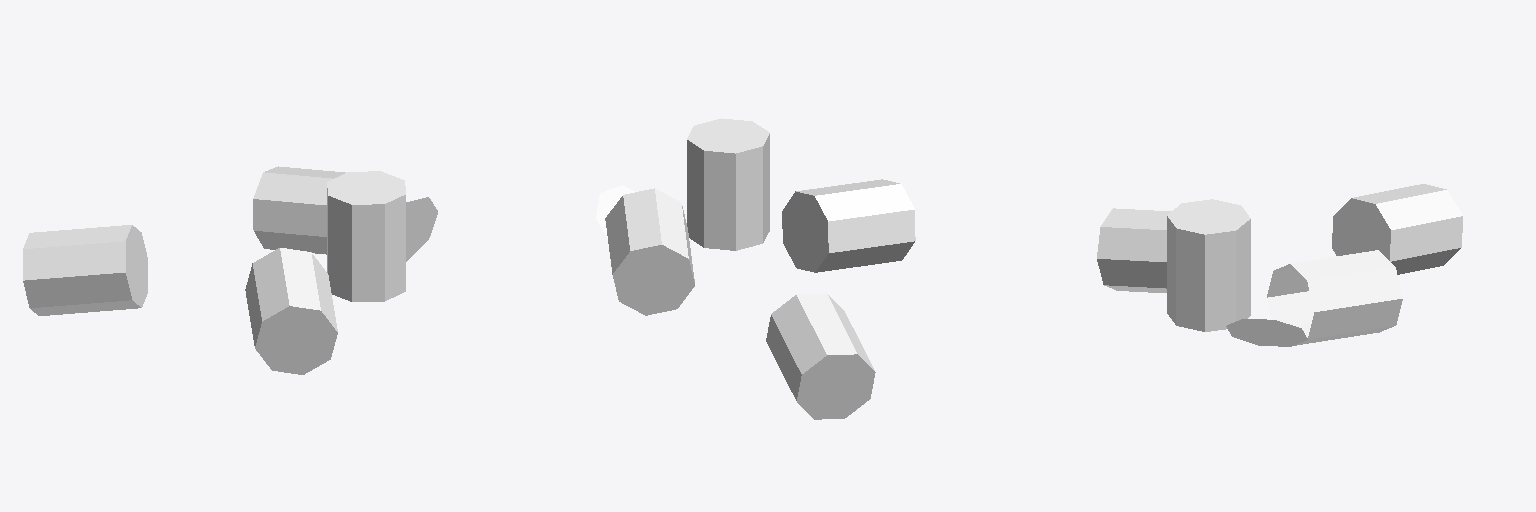
Rendered from metal_cans_debris_4.obj.
3 renders of one model, left to right at view 1: azimuth 30°, elevation 25°; view 2: azimuth 150°, elevation 25°; view 3: azimuth 270°, elevation 25°, orthographic.
Visible parts, largest first — view 1: can_3, can_2, can_1, can_5, can_5_lid; view 2: can_1, can_2, can_3, can_5, can_5_lid; view 3: can_2, can_5, can_3, can_1, can_5_lid.
Part boxes in pixels (bbox=[...]): can_3: bbox=[23, 225, 147, 315]; can_2: bbox=[327, 171, 405, 301]; can_1: bbox=[245, 248, 337, 374]; can_5: bbox=[253, 166, 345, 254]; can_5_lid: bbox=[406, 197, 437, 261]; can_1: bbox=[782, 179, 915, 272]; can_2: bbox=[687, 118, 769, 250]; can_3: bbox=[766, 293, 875, 419]; can_5: bbox=[605, 188, 694, 315]; can_5_lid: bbox=[596, 185, 634, 238]; can_2: bbox=[1167, 199, 1250, 331]; can_5: bbox=[1267, 250, 1402, 345]; can_3: bbox=[1332, 184, 1462, 274]; can_1: bbox=[1097, 208, 1171, 292]; can_5_lid: bbox=[1226, 319, 1307, 346].
Bounding box in the file's own units: 1.26 × 0.5339 × 1.17.